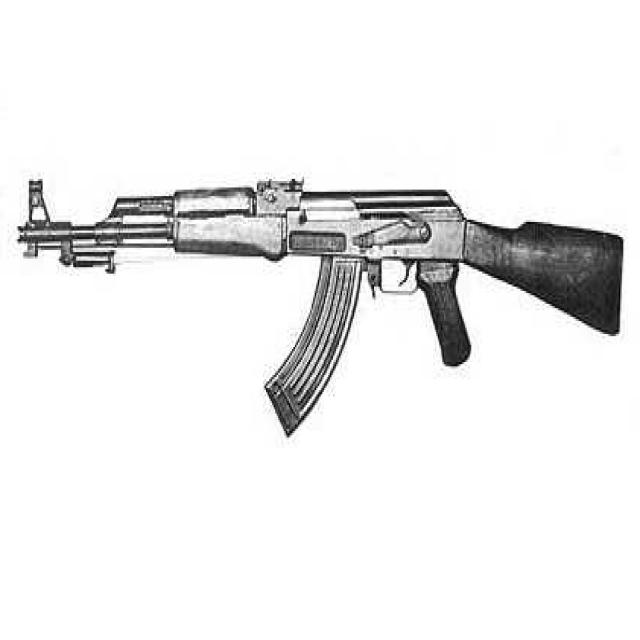heavyweapon: (10, 161, 618, 471)
